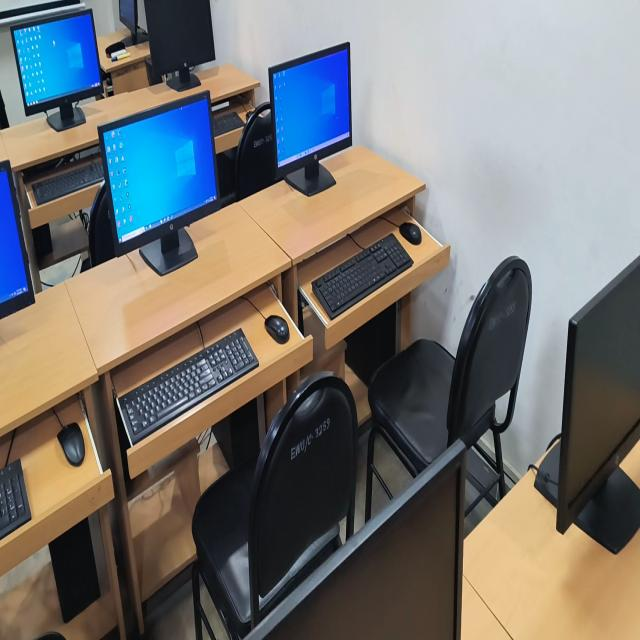Chair: (192, 372, 358, 639), (366, 256, 531, 520), (235, 103, 279, 200), (81, 183, 115, 271)
Cpu: (49, 519, 101, 622), (345, 305, 397, 384), (212, 398, 260, 469)
Keyboard: (117, 328, 259, 446), (312, 234, 413, 320), (31, 154, 103, 205), (0, 459, 31, 540), (214, 112, 244, 137)
Monitor: (245, 439, 467, 639), (535, 256, 640, 554), (99, 91, 220, 276), (269, 43, 352, 196), (11, 9, 102, 131), (144, 0, 215, 90), (0, 161, 34, 318), (119, 0, 148, 43)
Mouse: (57, 423, 85, 466), (265, 315, 289, 344), (399, 223, 421, 245)
